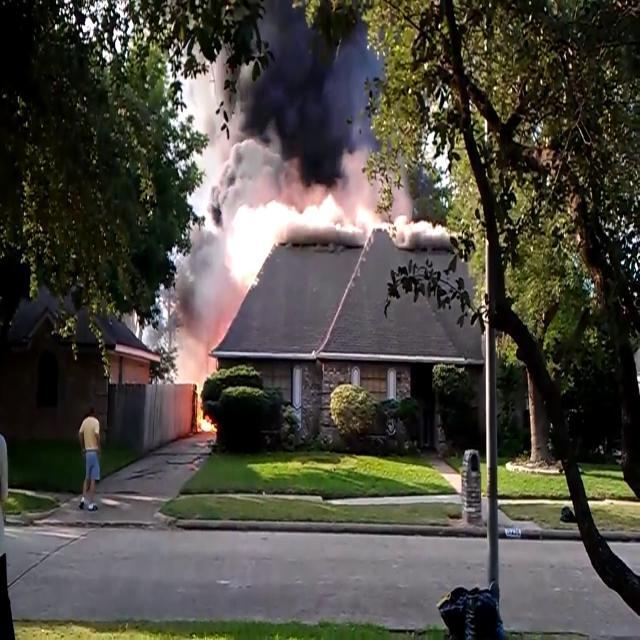Fire: (190, 380, 218, 438)
Smoke: (196, 2, 391, 230), (168, 220, 240, 372)
